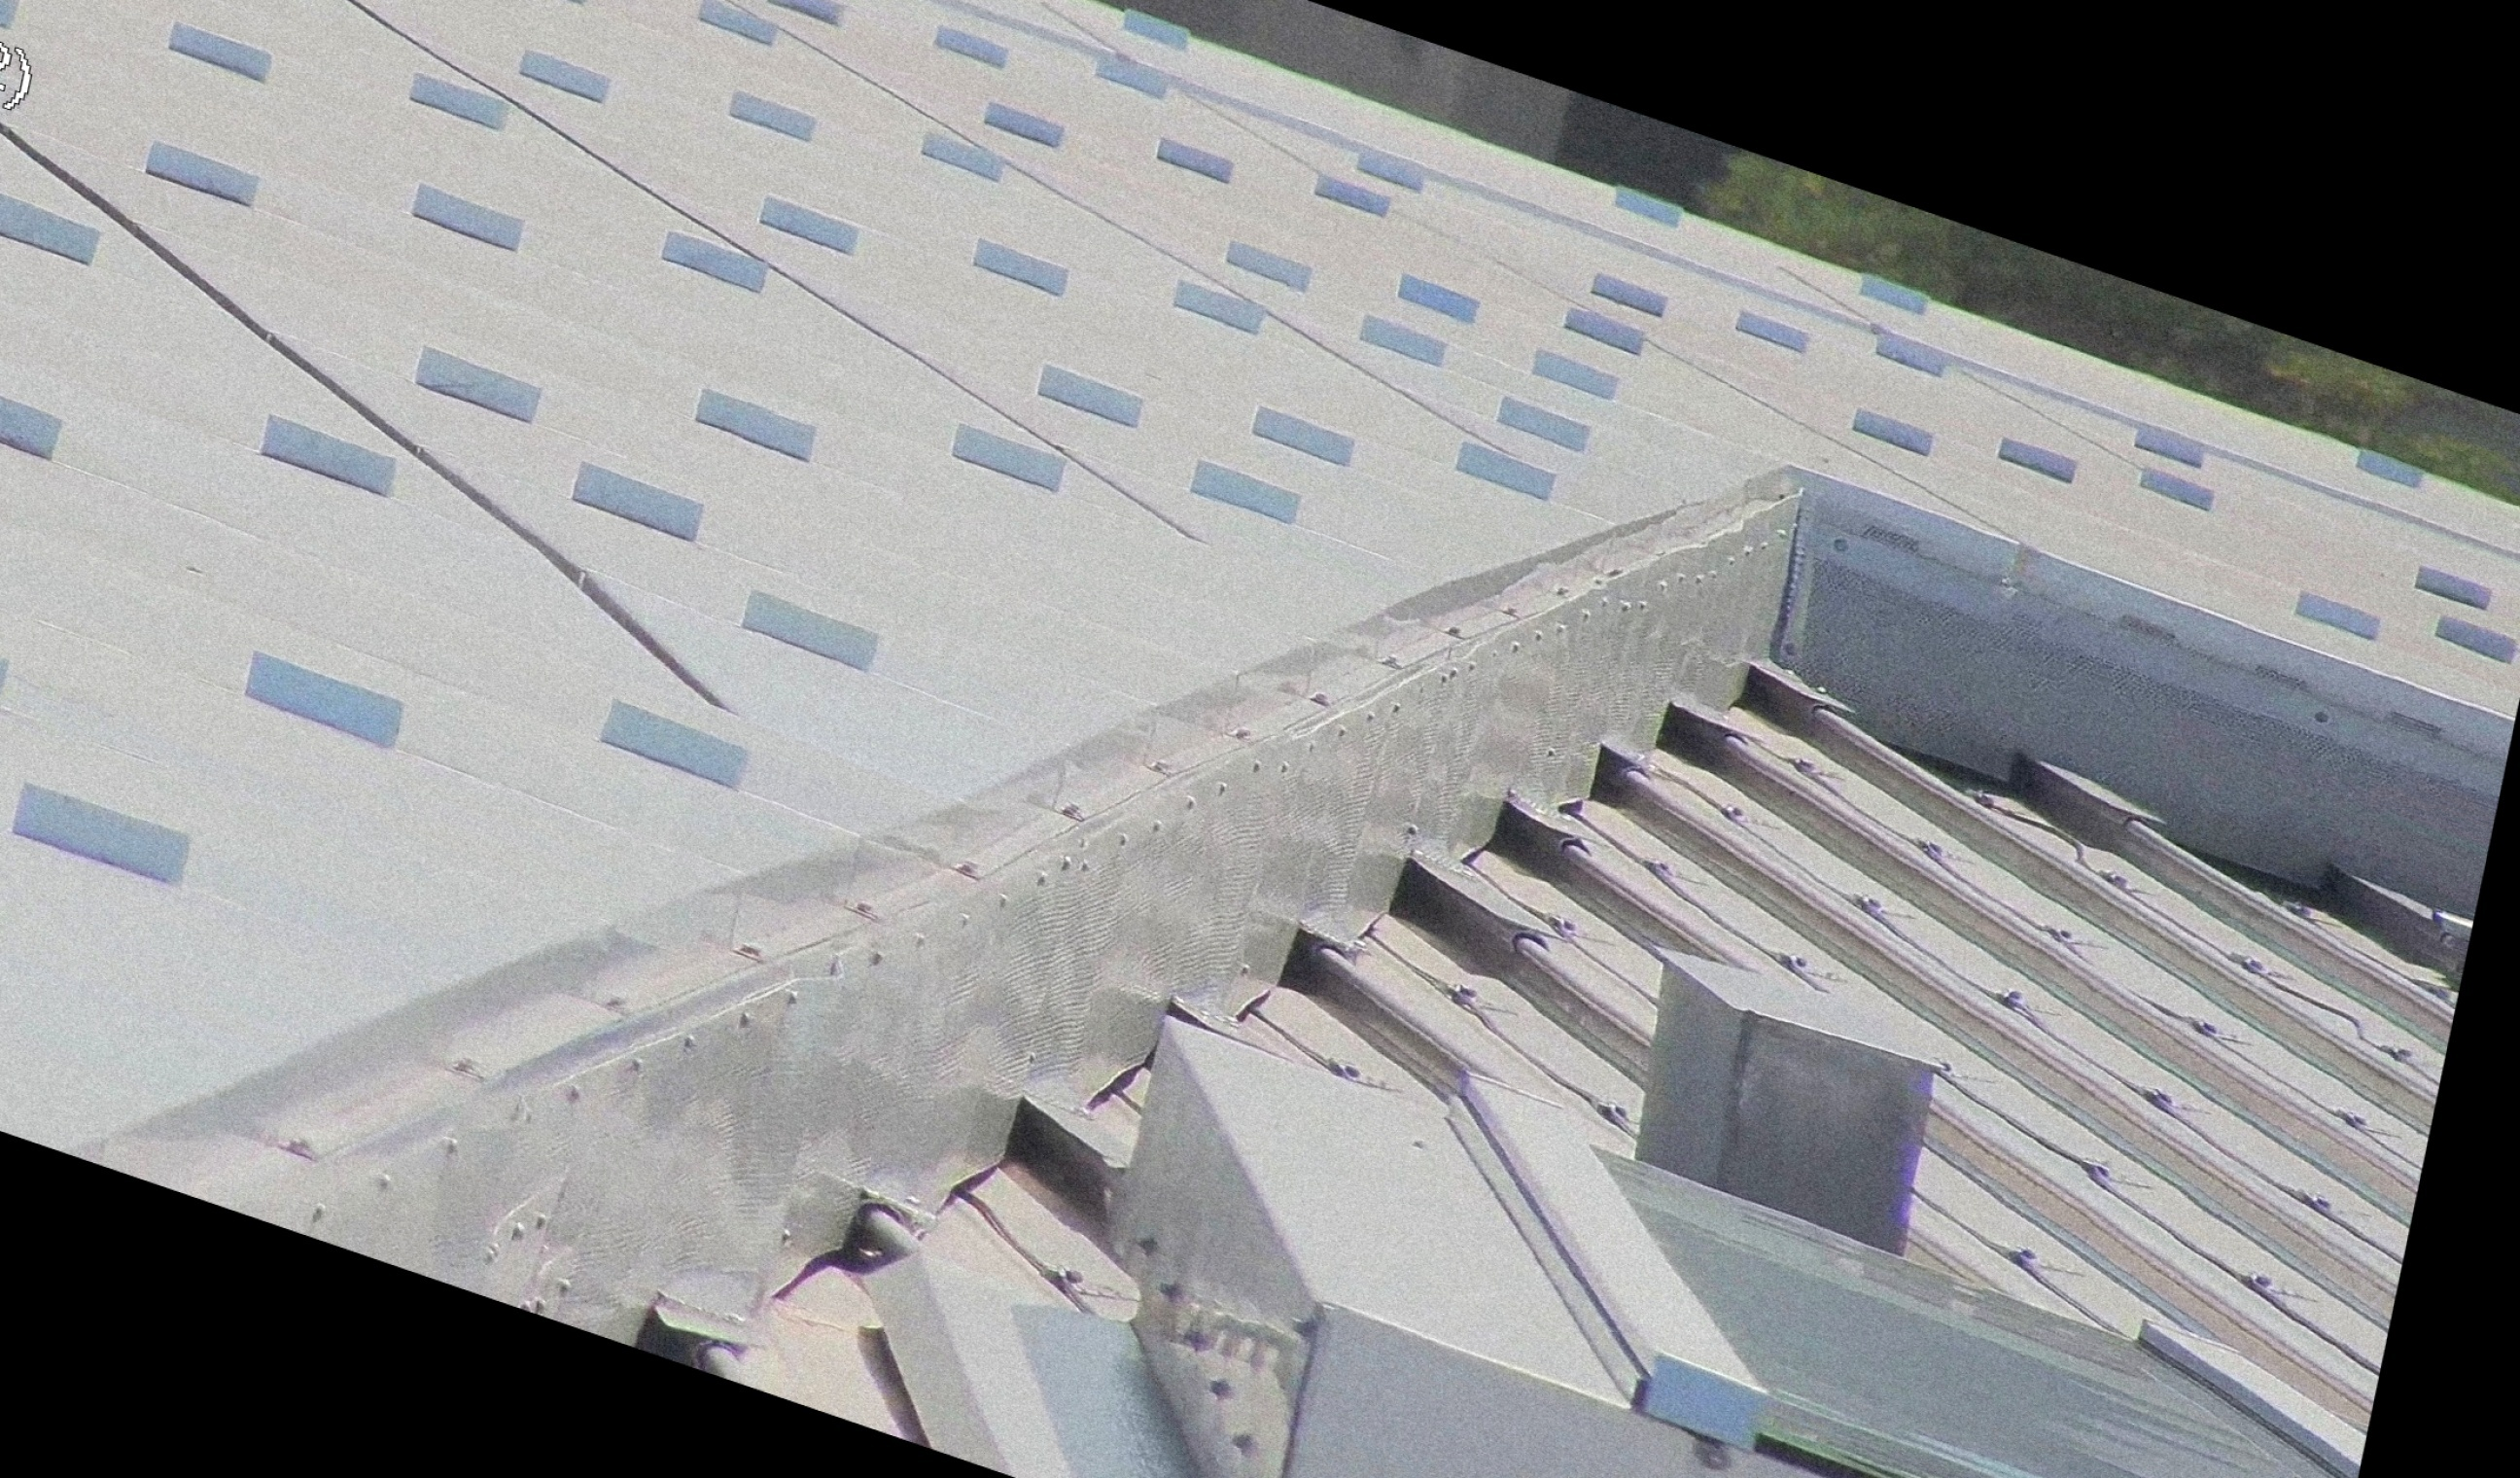Other: (754, 1149, 969, 1378)
